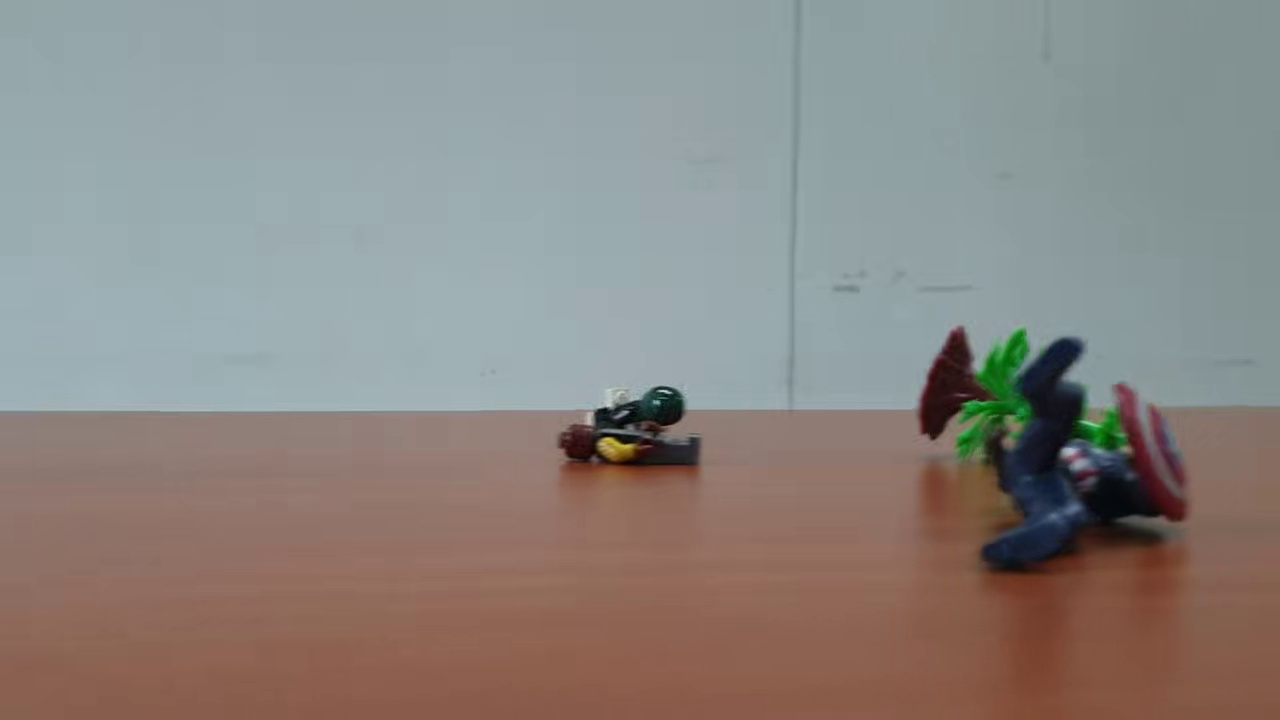people: (979, 330, 1193, 572), (553, 423, 701, 469), (580, 381, 687, 443)
tree: (913, 324, 1149, 473)
